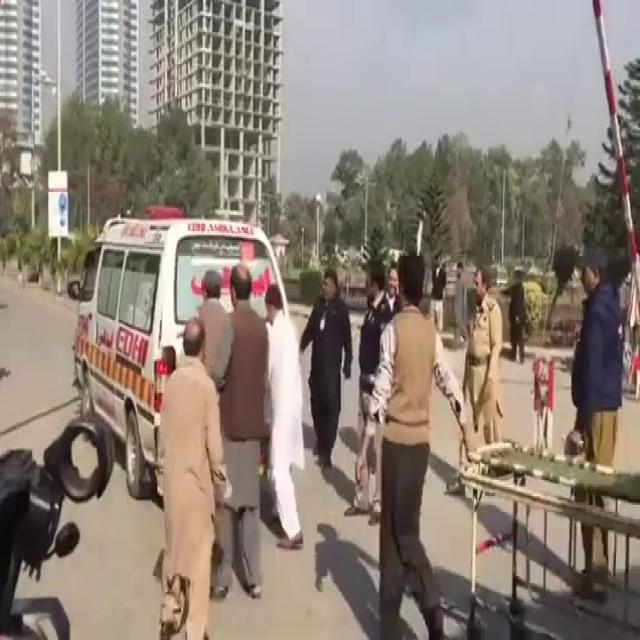ambulance: (82, 208, 305, 494)
